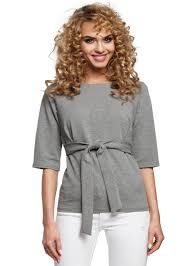C_blouse: (24, 76, 169, 213)
